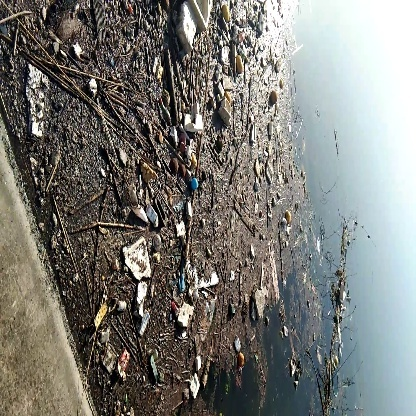plastic-garbage: (123, 234, 160, 285)
